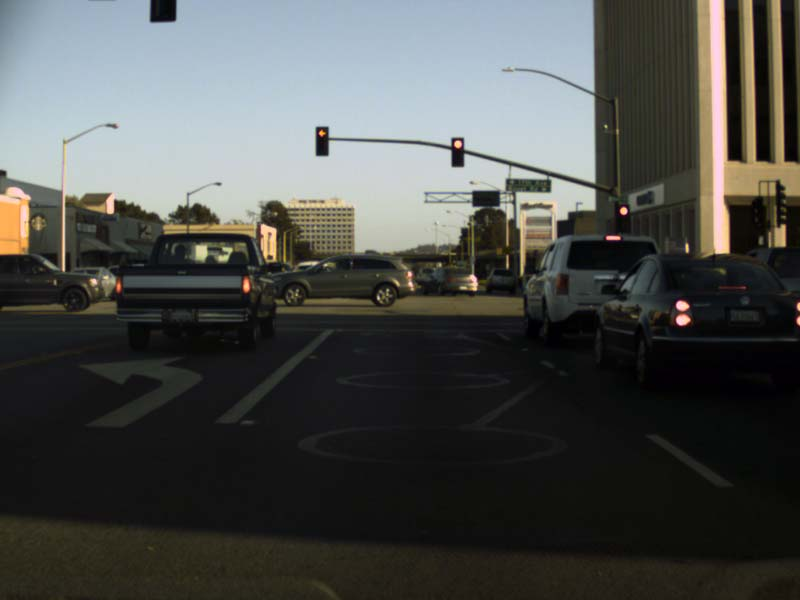Red: (450, 137, 464, 167), (315, 126, 328, 156), (616, 203, 629, 232)
